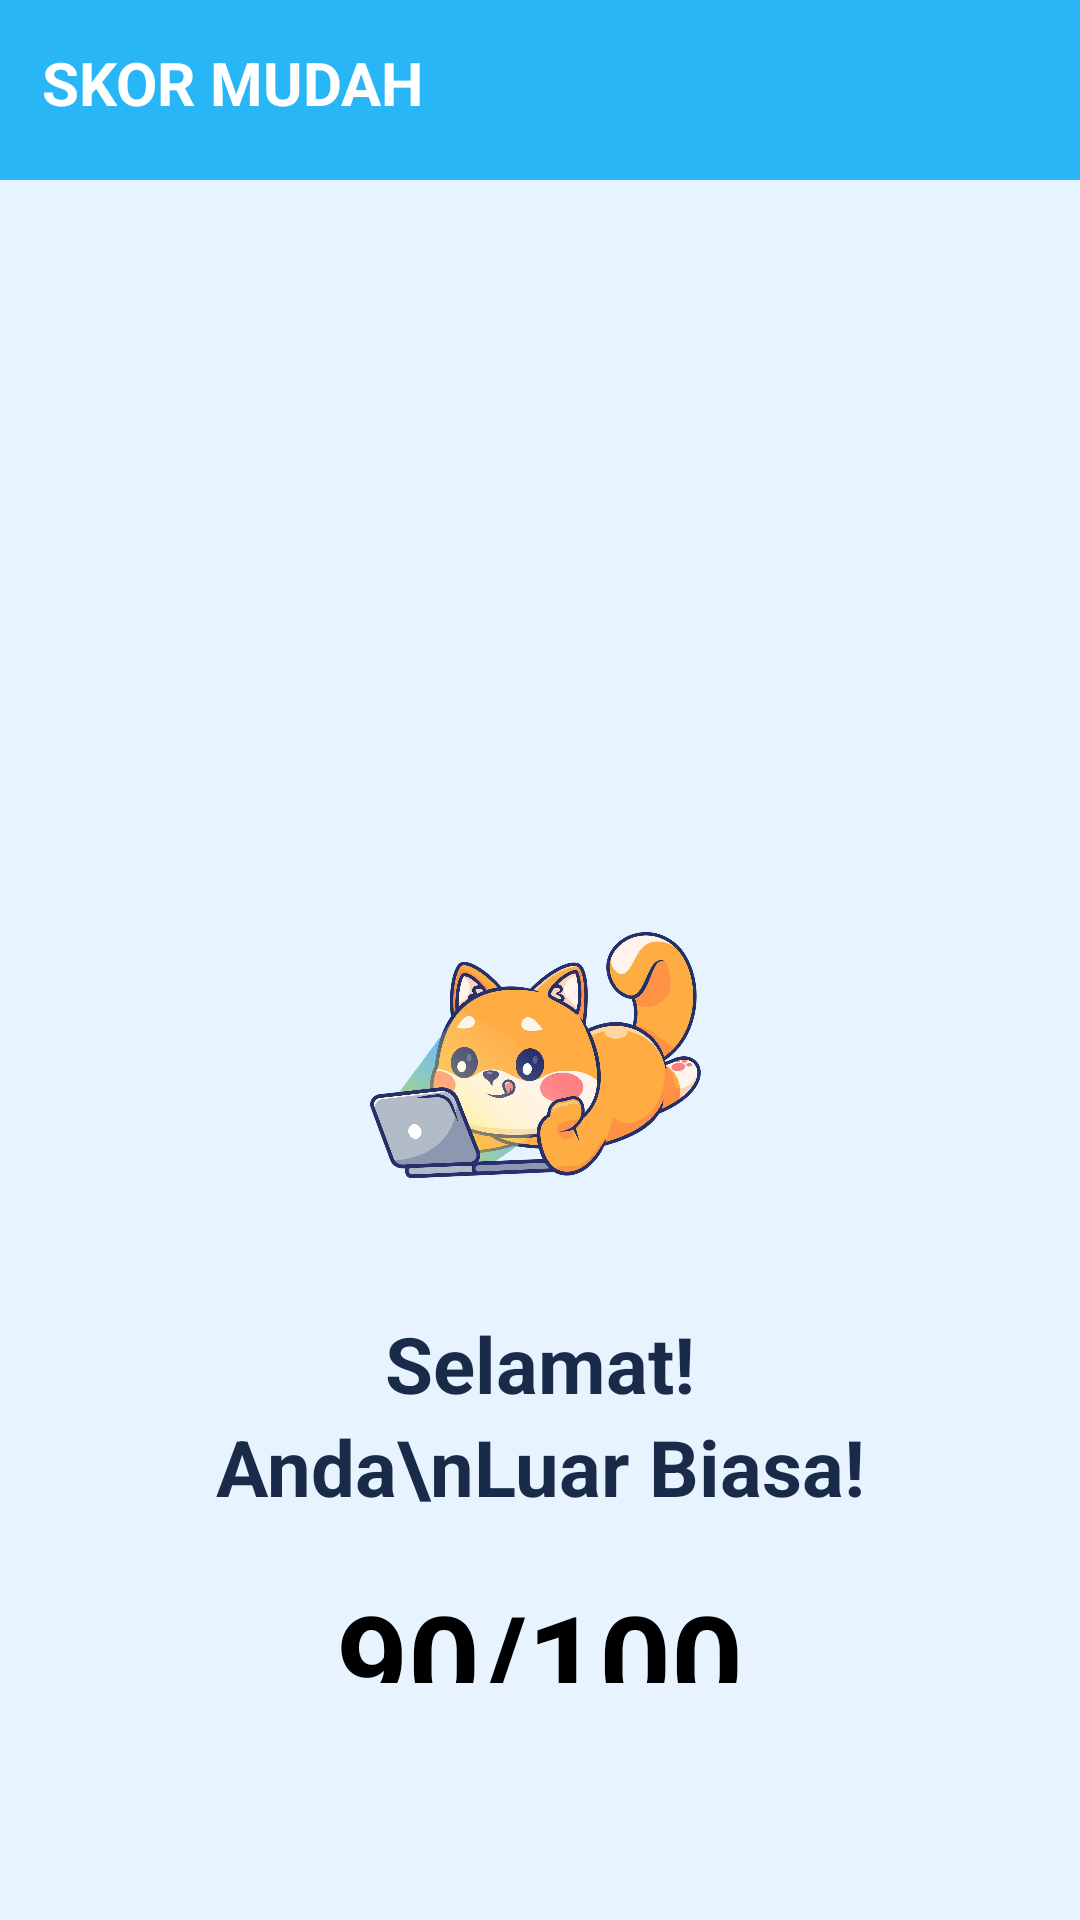

Locate icon controls on the screen. Image size 1080px x 1920px, boxes as (x1, y1, x2, y2).
maskot: (370, 932, 701, 1178)
